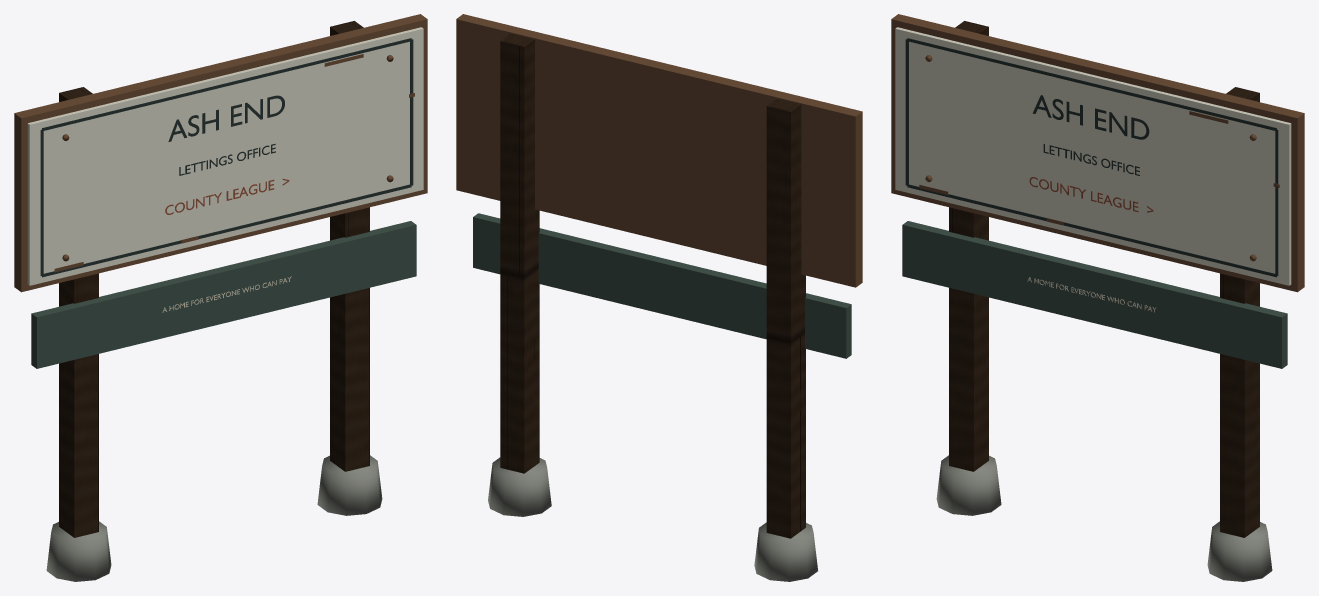
Rendered from waymarker-ash-end.glb.
3 renders of one model, left to right at view 1: azimuth 30°, elevation 25°; view 2: azimuth 150°, elevation 25°; view 3: azimuth 330°, elevation 25°, orthographic.
Visible parts, largest first — view 1: Reflective enamel face, Lower regulation plaque, Steel folded sign back, Weathered timber upright, Weathered timber upright.001, Concrete footing.001, Concrete footing, Printed border.001, Printed border, Destination, Printed border.002, Direction (+1 smaller); view 2: Steel folded sign back, Lower regulation plaque, Weathered timber upright, Weathered timber upright.001, Concrete footing.001, Concrete footing; view 3: Reflective enamel face, Lower regulation plaque, Steel folded sign back, Weathered timber upright.001, Weathered timber upright, Concrete footing, Concrete footing.001, Printed border.001, Printed border, Destination, Printed border.002, Printed border.003 (+1 smaller).
Boxes of the visible parts, <box> form: Reflective enamel face: <box>27,27,423,285</box>; Lower regulation plaque: <box>31,221,416,368</box>; Steel folded sign back: <box>14,14,427,292</box>; Weathered timber upright: <box>59,87,98,537</box>; Weathered timber upright.001: <box>330,21,369,471</box>; Concrete footing.001: <box>317,455,382,515</box>; Concrete footing: <box>46,521,111,581</box>; Printed border.001: <box>42,38,411,131</box>; Printed border: <box>42,184,411,277</box>; Destination: <box>168,95,284,141</box>; Printed border.002: <box>40,129,43,275</box>; Direction: <box>165,179,289,214</box>; Steel folded sign back: <box>456,14,862,287</box>; Lower regulation plaque: <box>473,213,851,358</box>; Weathered timber upright: <box>766,98,805,538</box>; Weathered timber upright.001: <box>500,33,539,473</box>; Concrete footing.001: <box>488,457,551,516</box>; Concrete footing: <box>754,522,817,581</box>; Reflective enamel face: <box>895,27,1291,285</box>; Lower regulation plaque: <box>902,221,1287,368</box>; Steel folded sign back: <box>891,14,1304,292</box>; Weathered timber upright.001: <box>1220,87,1259,537</box>; Weathered timber upright: <box>949,21,988,471</box>; Concrete footing: <box>936,455,1001,515</box>; Concrete footing.001: <box>1207,521,1272,581</box>; Printed border.001: <box>907,38,1276,131</box>; Printed border: <box>907,184,1276,277</box>; Destination: <box>1032,95,1149,139</box>; Printed border.002: <box>905,39,908,185</box>; Printed border.003: <box>1275,129,1278,275</box>.
Bounding box in the file's own units: 1.98 × 2.2 × 0.28.
8 materials, 1 textured.
